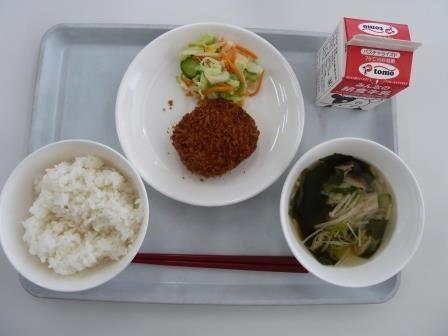Milk: (313, 11, 422, 119)
Rice: (1, 141, 147, 283)
Salad: (170, 27, 264, 103)
Soups: (277, 143, 412, 289)
cutlet: (162, 104, 266, 183)
